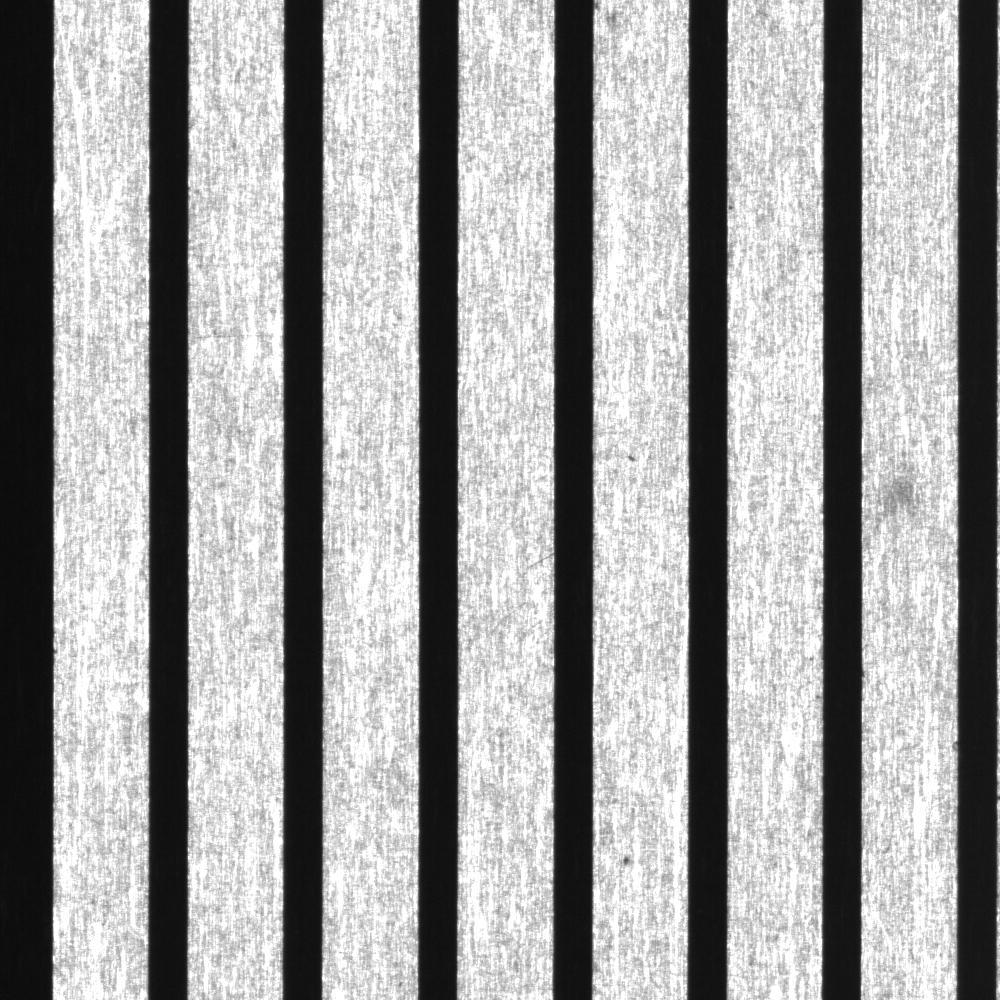Discolor: (873, 461, 934, 540)
Etching: (619, 442, 649, 478)
Pinhole: (608, 845, 645, 879)
Scar: (472, 598, 544, 641), (191, 325, 282, 349), (513, 543, 556, 580)
